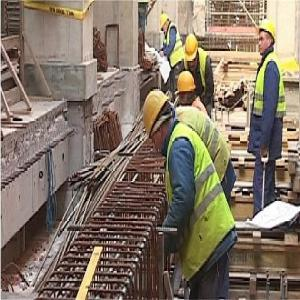yellow: (143, 90, 172, 149), (259, 20, 276, 54), (178, 71, 195, 104), (185, 35, 199, 69), (160, 15, 170, 36)
